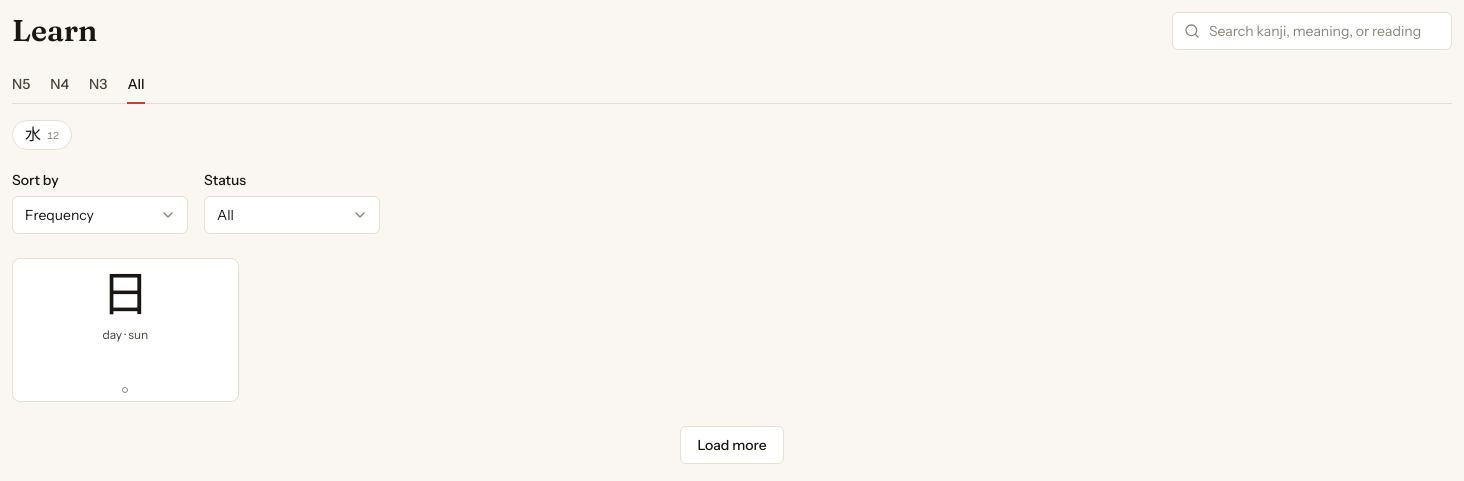
Learn browser (§7.3) › appends the next server page via Load more
Expected: the link "日 day · sun" is shown, [12,258,239,402]
Click the button "Load more": [732, 445] box [680,426,784,464]
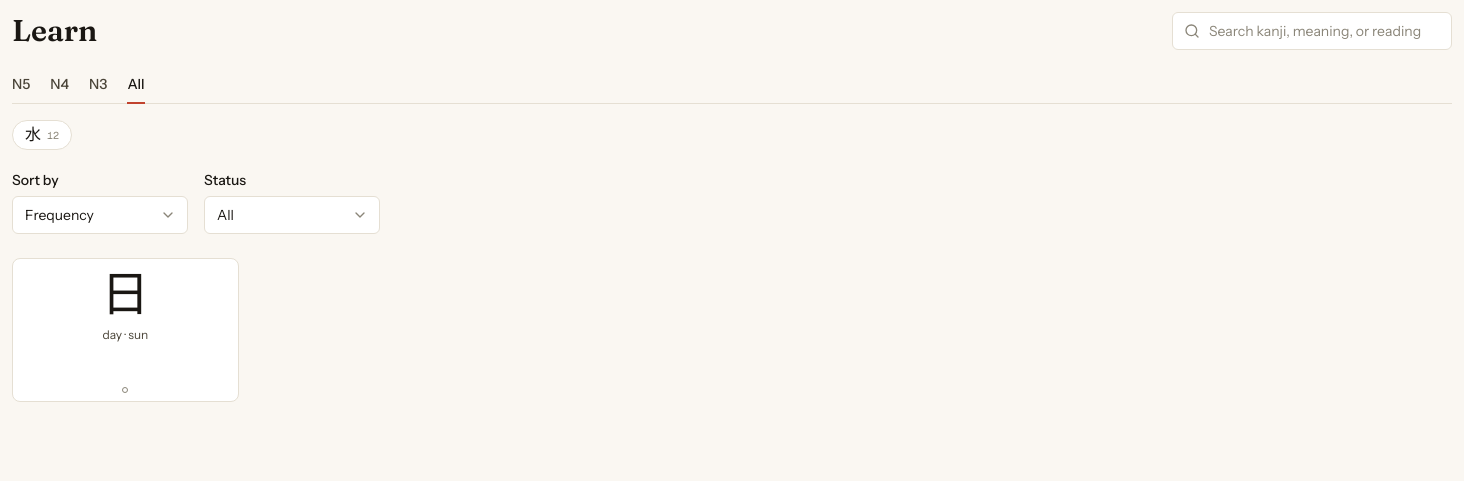
Expected: the button "Load more" is gone
